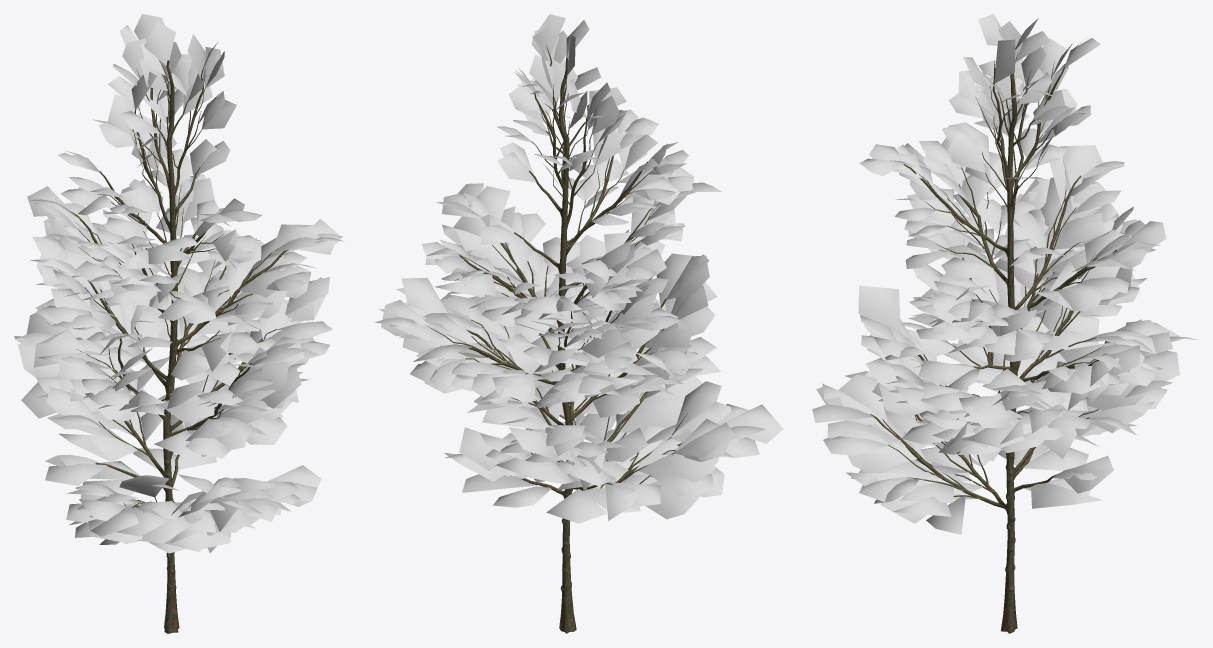
The model's file is Tree - Alien Tree Small 07 1-aeKbzEX3.glb.
3 renders of one model, left to right at view 1: azimuth 30°, elevation 25°; view 2: azimuth 150°, elevation 25°; view 3: azimuth 270°, elevation 25°, orthographic. The views are drawn at different scales.
Visible parts, largest first — view 1: Tree_Sm_07_1_L0(Clone); view 2: Tree_Sm_07_1_L0(Clone); view 3: Tree_Sm_07_1_L0(Clone).
Part boxes in pixels (left/top/right/bottom): Tree_Sm_07_1_L0(Clone): left=14, top=14, right=343, bottom=633; Tree_Sm_07_1_L0(Clone): left=374, top=14, right=783, bottom=633; Tree_Sm_07_1_L0(Clone): left=812, top=14, right=1196, bottom=633.
Bounding box in the file's own units: 4.58 × 8.61 × 4.92.
2 materials, 1 textured.
